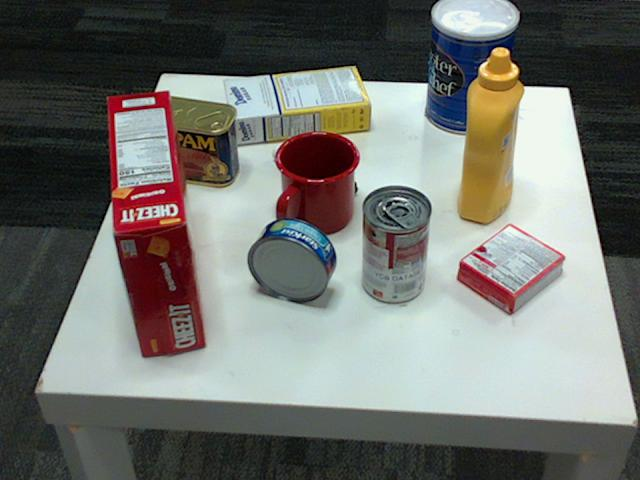cracker_box: (105, 88, 207, 354)
gelatin_box: (457, 224, 565, 314)
large_marker: (270, 148, 355, 195)
master_chef_can: (424, 0, 517, 133)
mug: (275, 128, 361, 231)
mustard_bottle: (456, 48, 524, 222)
potted_meat_can: (143, 97, 239, 186)
sugar_box: (223, 65, 371, 142)
tomato_soup_can: (362, 185, 432, 303)
tuna_fish_can: (248, 218, 337, 301)
